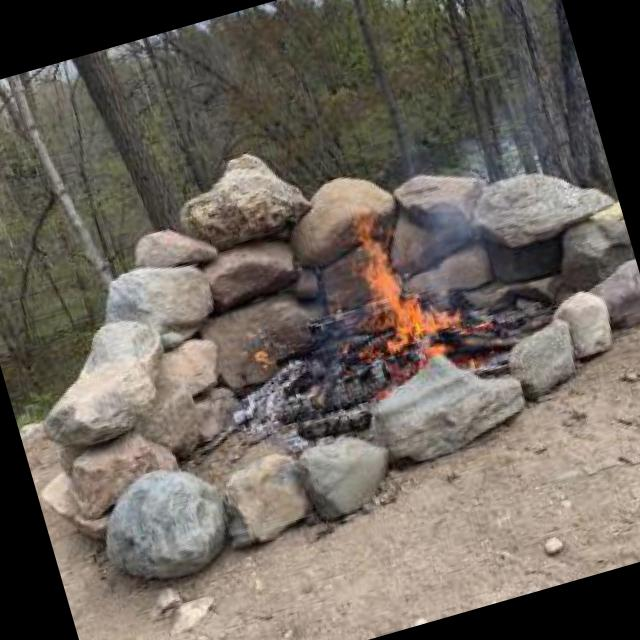fire: (338, 198, 469, 378)
